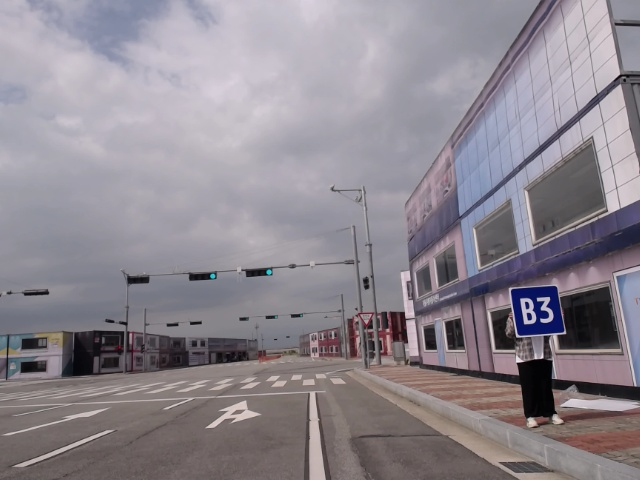delivery_b3: (508, 286, 568, 338)
straight_green_4: (188, 270, 218, 283), (244, 267, 273, 278), (288, 311, 304, 319), (263, 313, 280, 320)
